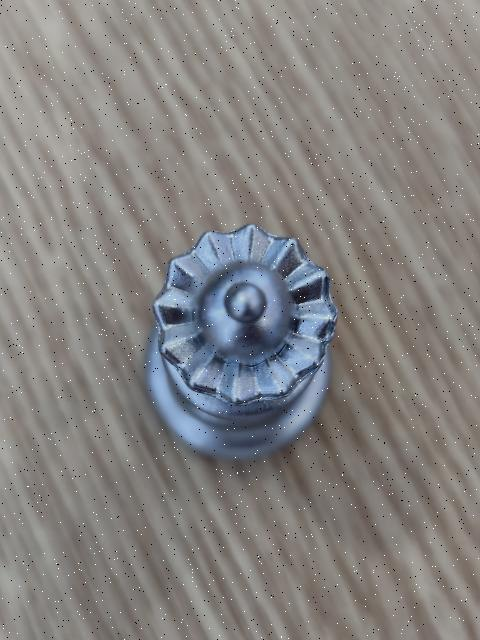white_queen: (149, 221, 338, 463)
